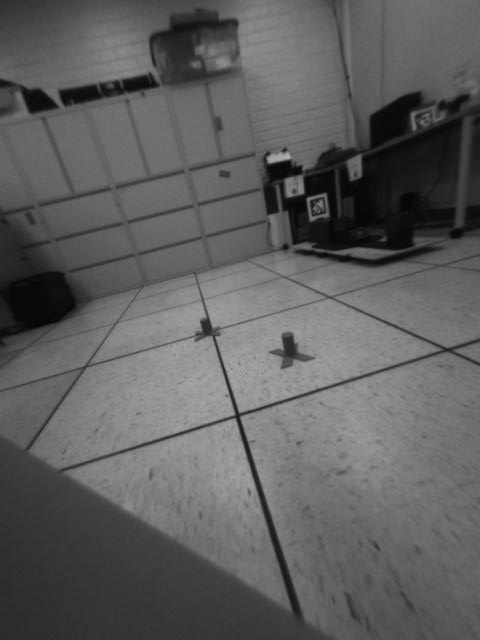X: (268, 330, 315, 370), (195, 316, 221, 341)
